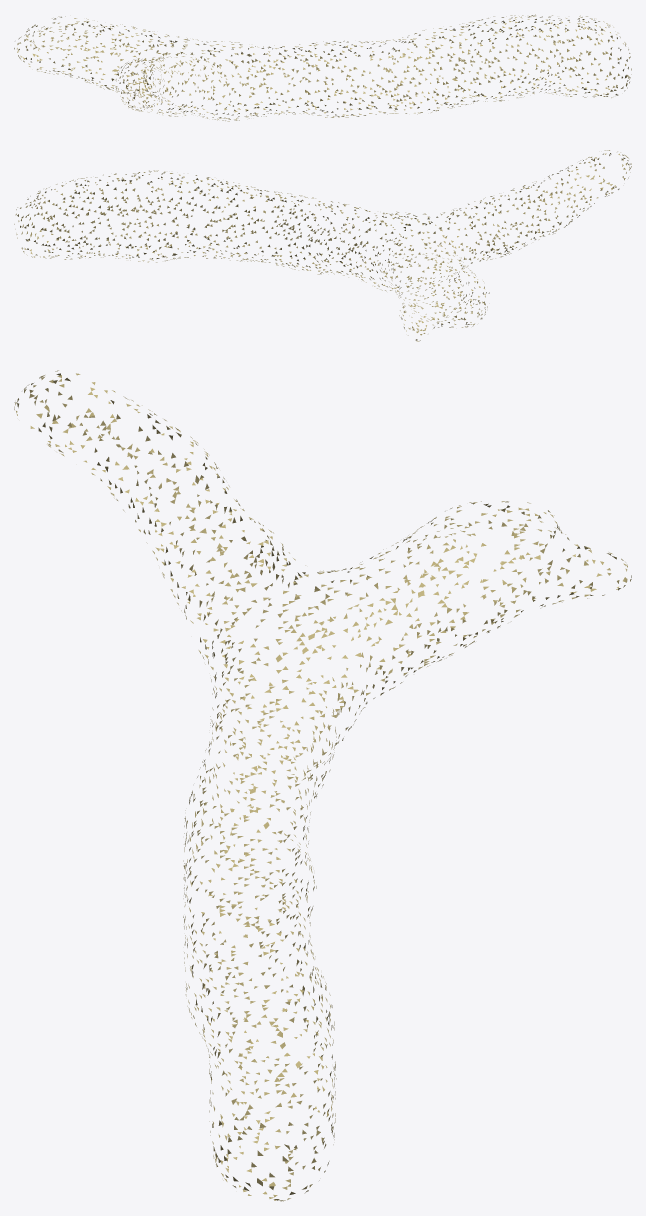
The model's file is morph_008.glb.
3 views of the same model, one above another, from view 1: azimuth 30°, elevation 25°; view 2: azimuth 150°, elevation 25°; view 3: azimuth 270°, elevation 25° (orthographic). The views are drawn at different scales.
Size of the model in its own units: 138 by 45.92 by 72.16.
